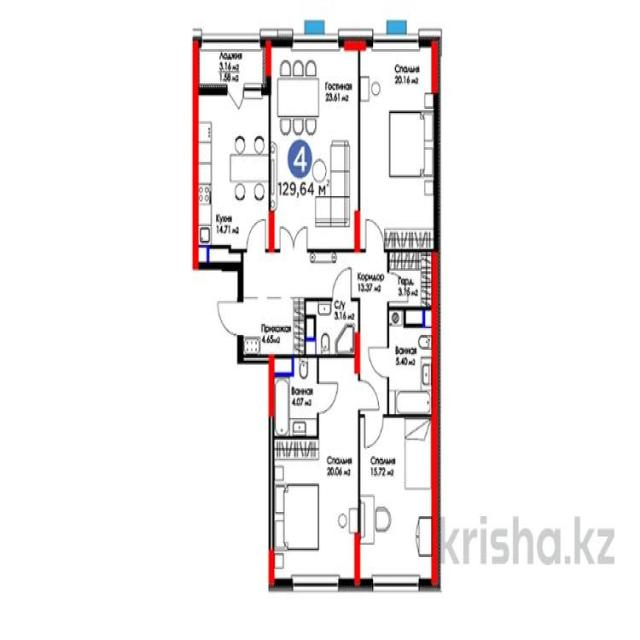balcony: (196, 40, 268, 91)
bathroom: (390, 308, 434, 416), (272, 353, 319, 437), (306, 298, 358, 353)
hallway: (242, 251, 386, 297), (240, 297, 306, 359)
kitchen: (196, 92, 272, 250)
living_room: (271, 41, 361, 253), (360, 42, 438, 248), (358, 411, 434, 582), (270, 438, 358, 582)
other: (388, 251, 435, 308)
